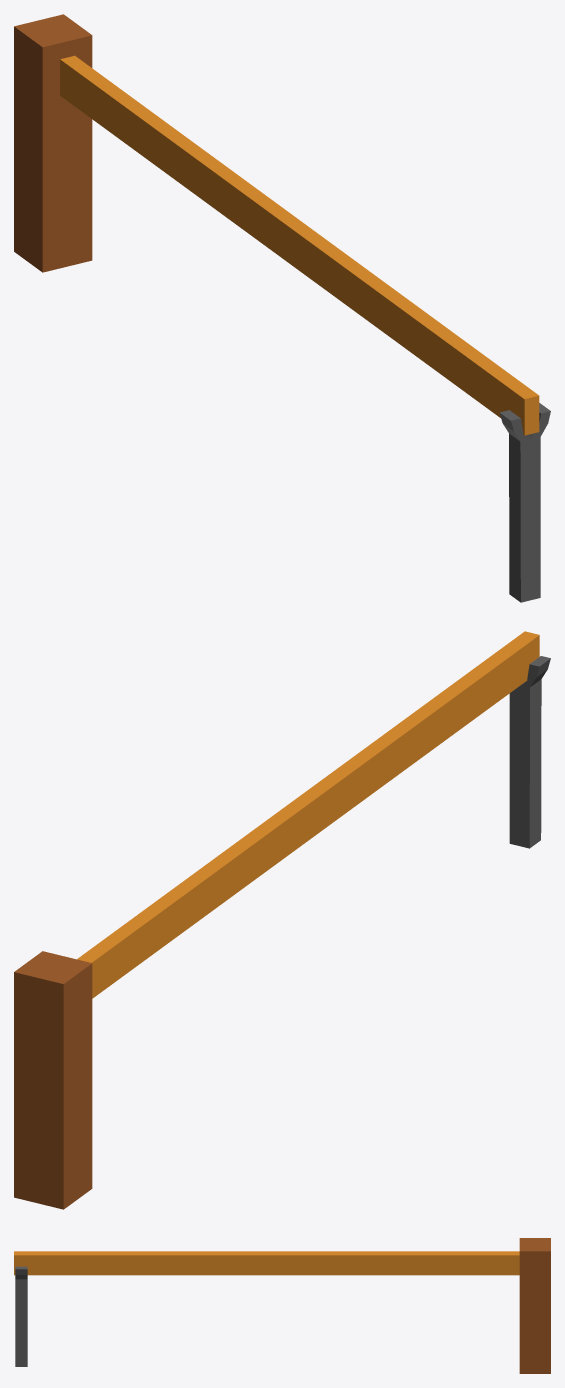
Rendered from shlakbaum.fbx.
3 views of the same model, one above another, from view 1: azimuth 30°, elevation 25°; view 2: azimuth 150°, elevation 25°; view 3: azimuth 270°, elevation 25° (orthographic). The views are drawn at different scales.
Visible parts, largest first — view 1: Cube.001, Cube, Cube.002; view 2: Cube.001, Cube, Cube.002; view 3: Cube.001, Cube, Cube.002.
Boxes of the visible parts, x1,y1,x2,y2 form: Cube.001: (60,55,539,435); Cube: (14,14,92,272); Cube.002: (499,403,550,602); Cube.001: (77,631,539,998); Cube: (14,951,92,1209); Cube.002: (509,656,550,848); Cube.001: (14,1251,519,1275); Cube: (519,1238,550,1373); Cube.002: (15,1266,27,1366).
Size of the model in its own units: 60 by 260 by 1032.
